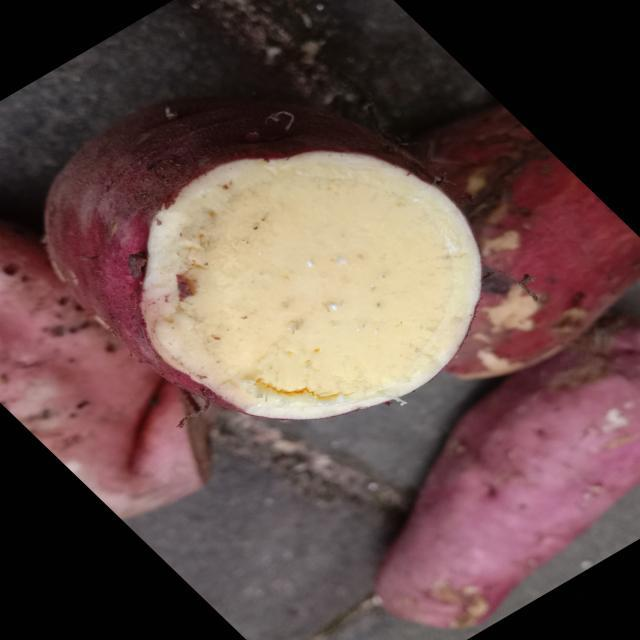Healthy Sweet Potato: (142, 151, 480, 410)
